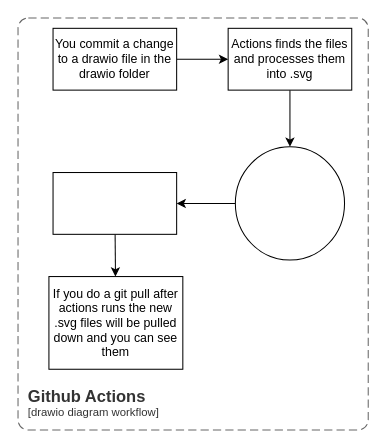
This 386x448 diagram has some shape labels left out. Each missing label, with the centre of its shape:
.md file references the .svg file and it all looks great!: [114,202]
Actions commits the new .svg files back to your branch: [289,203]
